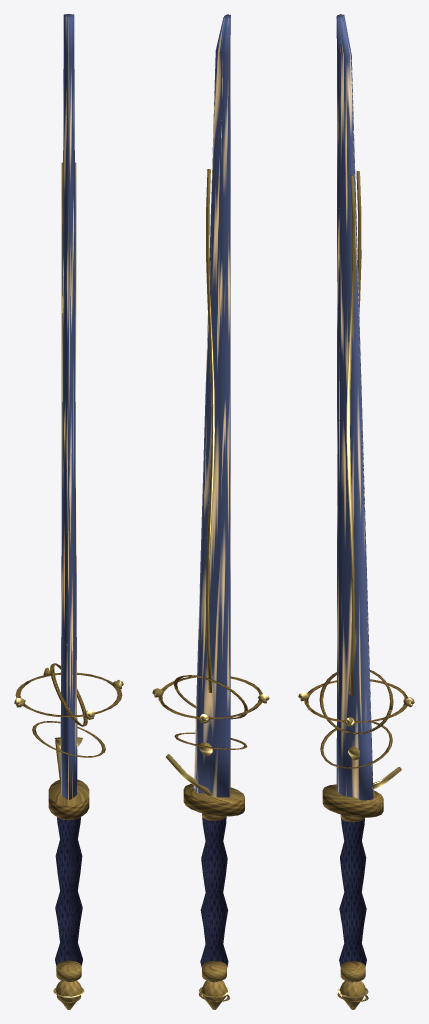
Rendered from sword_06_astrolabe_ring.glb.
The picture shows the model from 3 angles, left to right: view 1: azimuth 90°, elevation 25°; view 2: azimuth 150°, elevation 25°; view 3: azimuth 330°, elevation 25°; orthographic projection.
Parts seen in each view (by area): view 1: Blade_AstrolabeRingBlade, Grip_AstroChartedHilt, Rings_ArmillarySphere, Inlay_StarChartEtch, Guard_AstrolabeDisc, Pommel_GimbalRings, Ferrule_BrassAstrolabe; view 2: Blade_AstrolabeRingBlade, Grip_AstroChartedHilt, Inlay_StarChartEtch, Guard_AstrolabeDisc, Rings_ArmillarySphere, Pommel_GimbalRings, Ferrule_BrassAstrolabe; view 3: Blade_AstrolabeRingBlade, Grip_AstroChartedHilt, Inlay_StarChartEtch, Rings_ArmillarySphere, Guard_AstrolabeDisc, Pommel_GimbalRings, Ferrule_BrassAstrolabe.
Part boxes in pixels (box(x1,y1,x2,y2)): Blade_AstrolabeRingBlade: box(60, 14, 77, 799); Grip_AstroChartedHilt: box(55, 817, 82, 981); Rings_ArmillarySphere: box(14, 663, 123, 757); Inlay_StarChartEtch: box(61, 162, 76, 573); Guard_AstrolabeDisc: box(48, 740, 89, 819); Pommel_GimbalRings: box(53, 980, 84, 1009); Ferrule_BrassAstrolabe: box(56, 817, 81, 981); Blade_AstrolabeRingBlade: box(193, 14, 230, 797); Grip_AstroChartedHilt: box(200, 813, 228, 982); Inlay_StarChartEtch: box(206, 169, 214, 692); Guard_AstrolabeDisc: box(166, 754, 244, 816); Rings_ArmillarySphere: box(152, 675, 269, 749); Pommel_GimbalRings: box(199, 980, 229, 1009); Ferrule_BrassAstrolabe: box(202, 813, 226, 981); Blade_AstrolabeRingBlade: box(336, 14, 373, 800); Grip_AstroChartedHilt: box(339, 818, 366, 982); Inlay_StarChartEtch: box(346, 171, 361, 695); Rings_ArmillarySphere: box(298, 670, 414, 768); Guard_AstrolabeDisc: box(322, 767, 401, 817); Pommel_GimbalRings: box(337, 981, 368, 1009); Ferrule_BrassAstrolabe: box(340, 814, 365, 981).
Size of the model in its own units: 0.2578 by 2.6 by 0.2578.
Materials: 1 (1 with a texture image).
